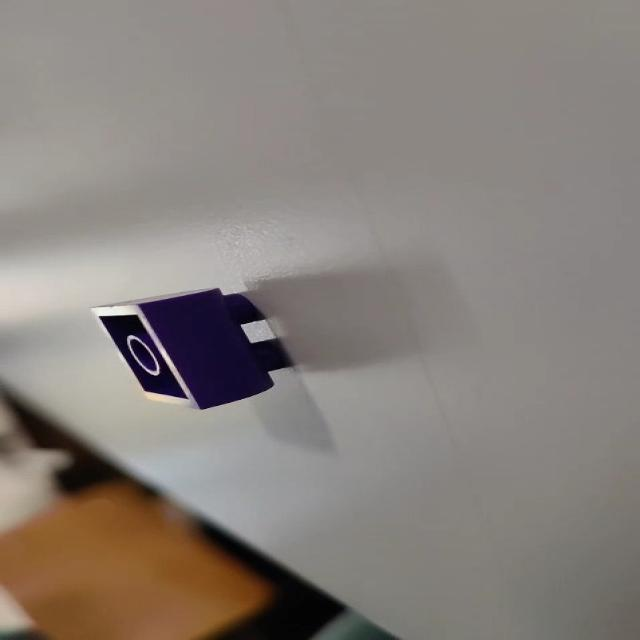H2x2x1: (89, 286, 297, 408)
